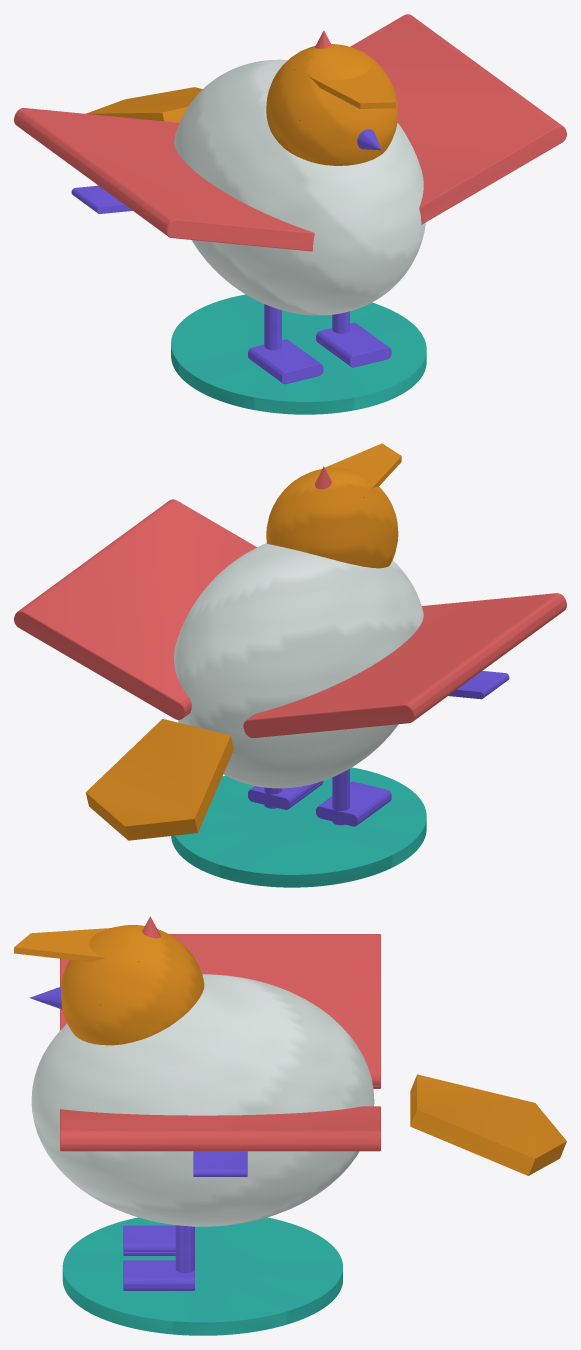
Rendered from 0423_微生物图鉴_鸡枞菌.glb.
3 views of the same model, one above another, from view 1: azimuth 30°, elevation 25°; view 2: azimuth 150°, elevation 25°; view 3: azimuth 270°, elevation 25° (orthographic). The views are drawn at different scales.
Visible parts, largest first — view 1: card_0423; view 2: card_0423; view 3: card_0423.
Part boxes in pixels (left/top/right/bottom): card_0423: left=14, top=14, right=566, bottom=414; card_0423: left=14, top=443, right=566, bottom=887; card_0423: left=14, top=916, right=566, bottom=1335.
Bounding box in the file's own units: 1.24 × 1 × 1.38.
